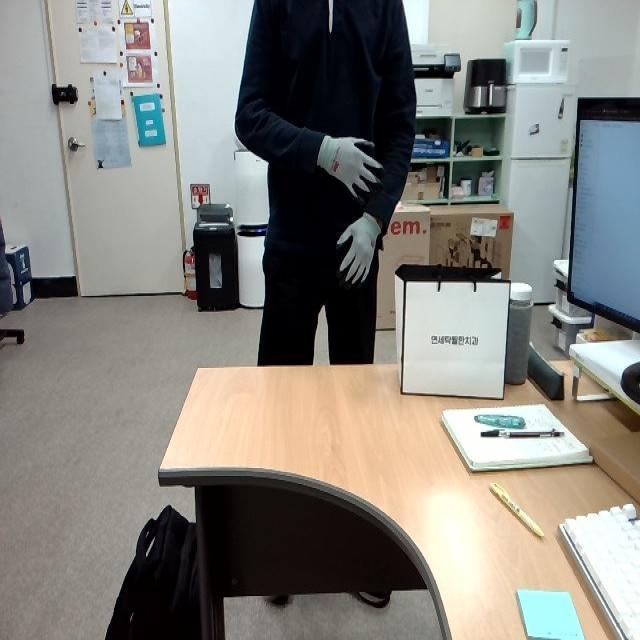gloved_hand: (306, 122, 388, 204), (324, 208, 384, 286)
